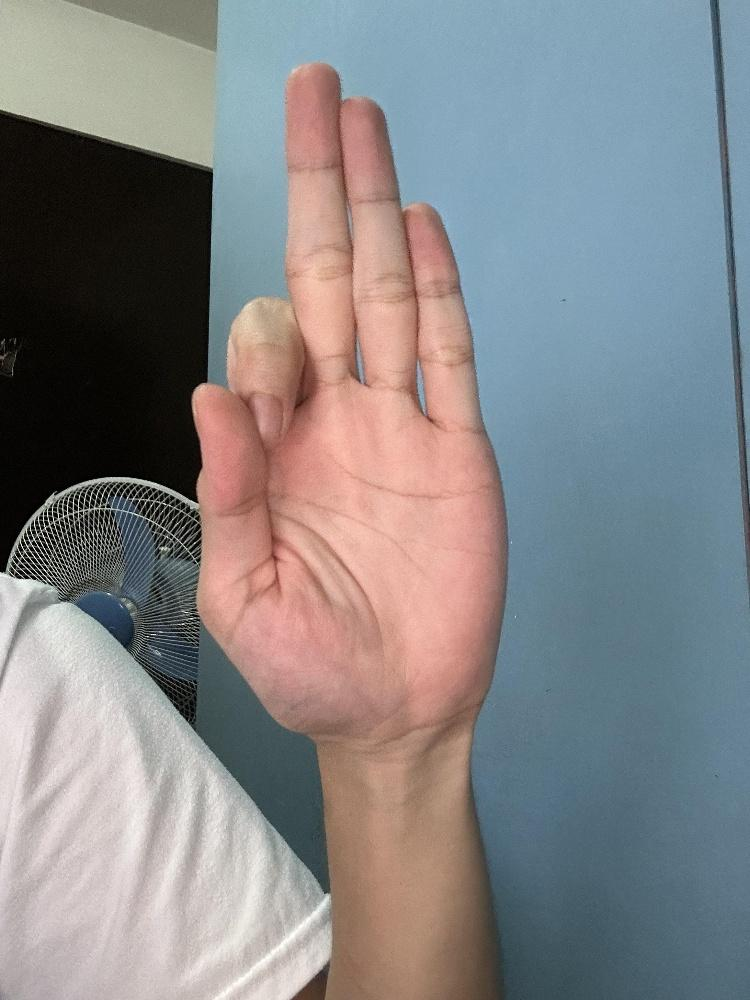f: (190, 54, 512, 753)
